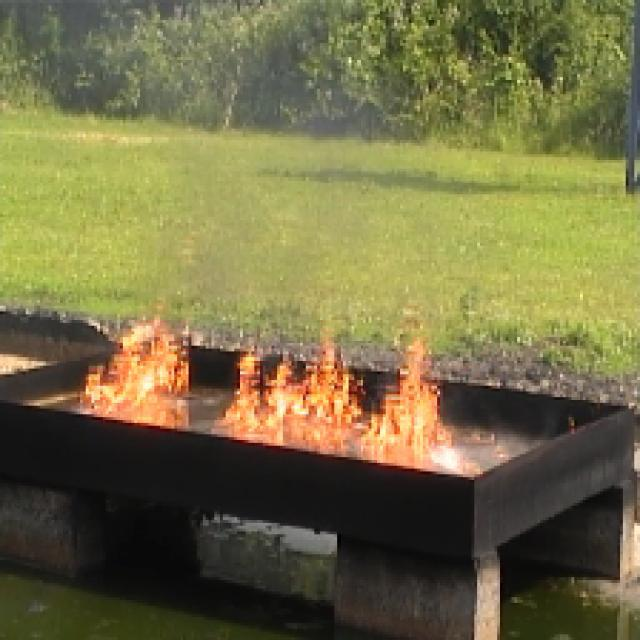Fire: (93, 328, 452, 443)
